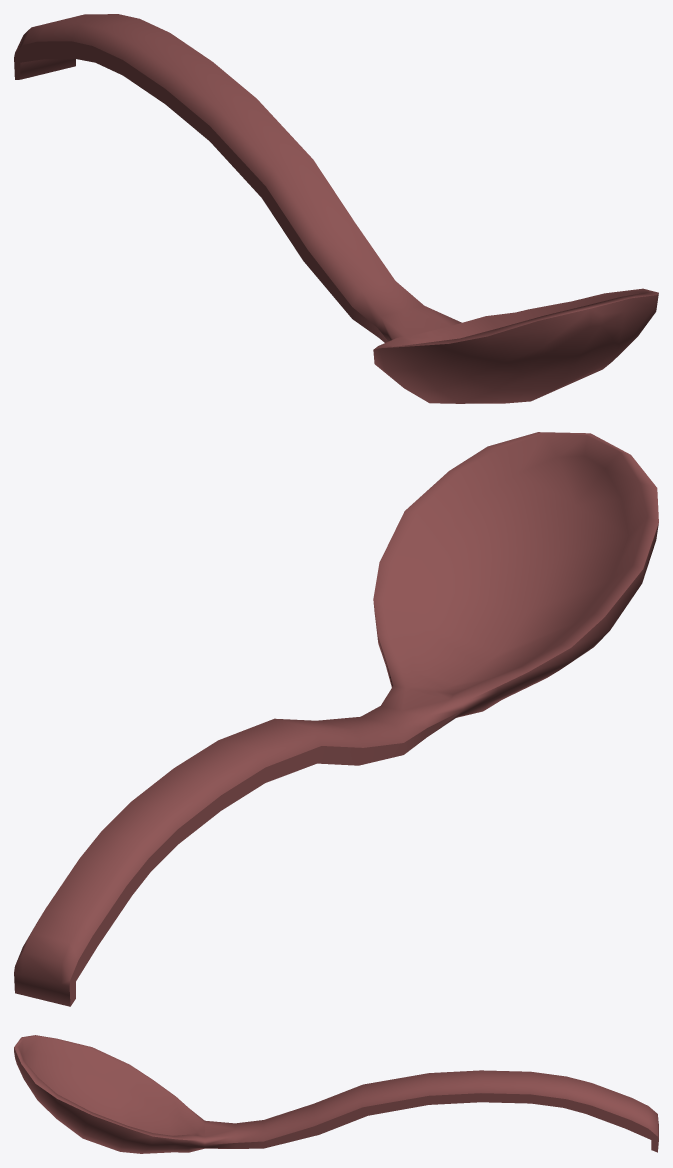
File: BgMD_Nagi_Renge_01.fbx
3 renders of one model, top to bottom at view 1: azimuth 30°, elevation 25°; view 2: azimuth 150°, elevation 25°; view 3: azimuth 270°, elevation 25°, orthographic. The views are drawn at different scales.
Parts seen in each view (by area): view 1: BgMD_Nagi_Renge_01; view 2: BgMD_Nagi_Renge_01; view 3: BgMD_Nagi_Renge_01.
Boxes of the visible parts, x1,y1,x2,y2 form: BgMD_Nagi_Renge_01: (14, 14, 658, 403); BgMD_Nagi_Renge_01: (14, 432, 658, 1006); BgMD_Nagi_Renge_01: (14, 1035, 658, 1153).
Size of the model in its own units: 4.29 by 2.86 by 17.11.
